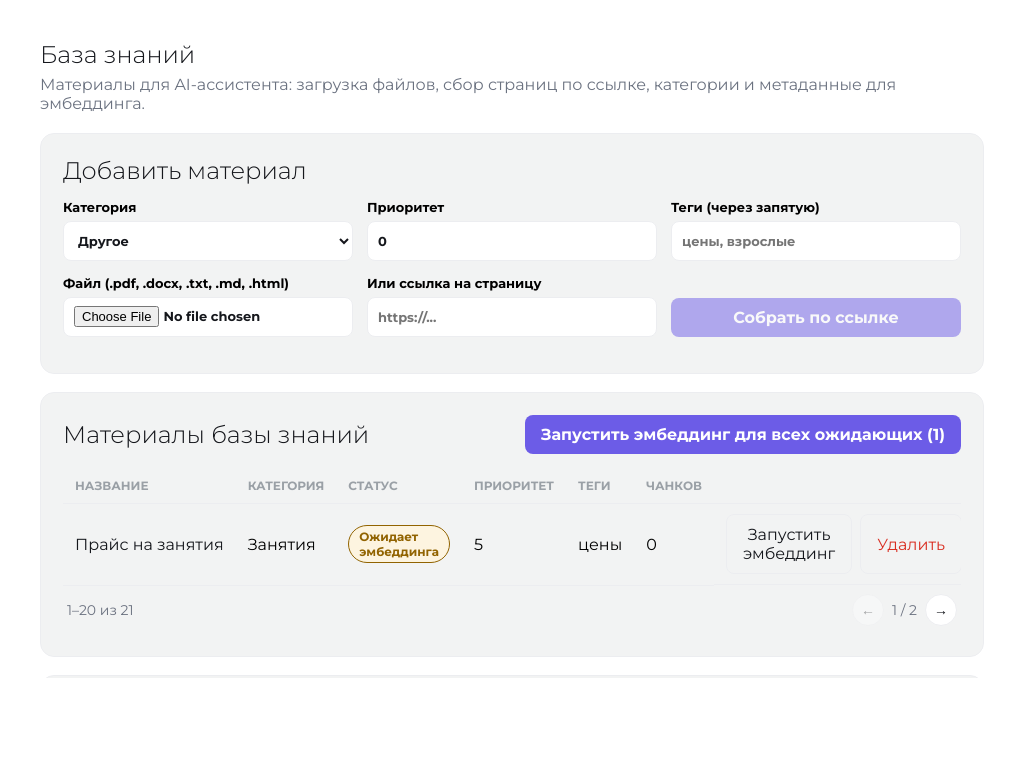
paginates documents 20 per page and requests the next page on click
The width and height of the screenshot is (1024, 768).
Expected: the text "Прайс на занятия" is shown, [63,504,236,585]
Expected: the text "1–20 из 21" is shown, [67,600,134,618]
Click the button named "Следующая страница". click: click(941, 610)
box: [925,594,957,626]
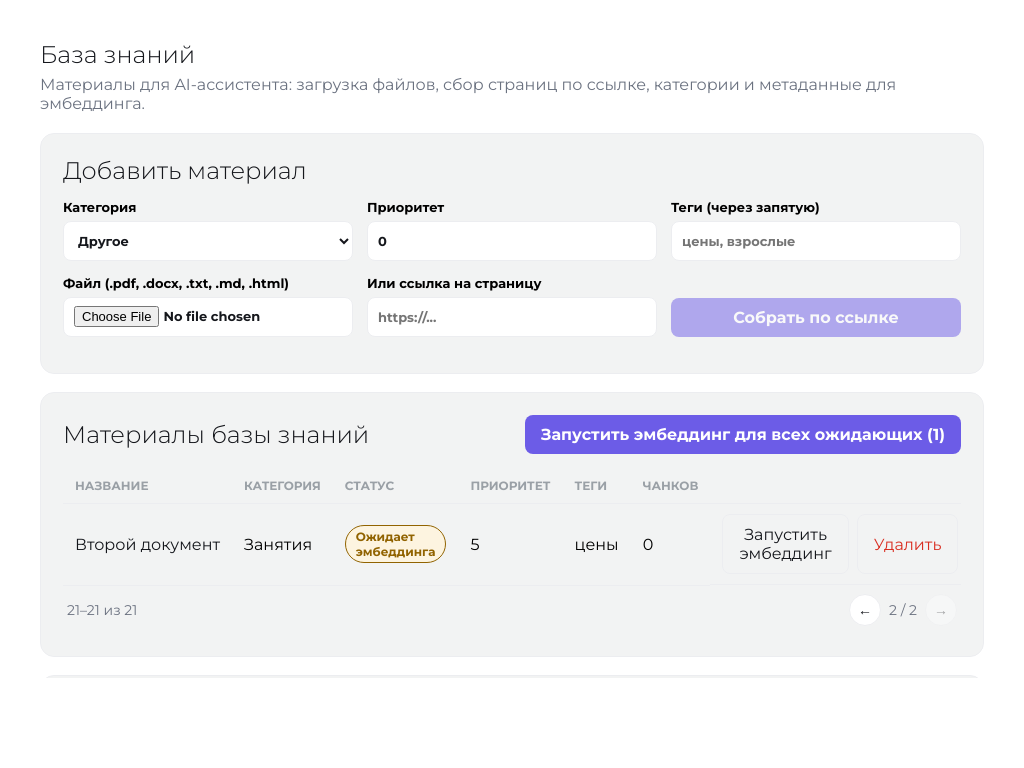
Now the text "Второй документ" is shown, box [63,504,232,585]
Now the text "21–21 из 21" is shown, box [67,600,137,618]
